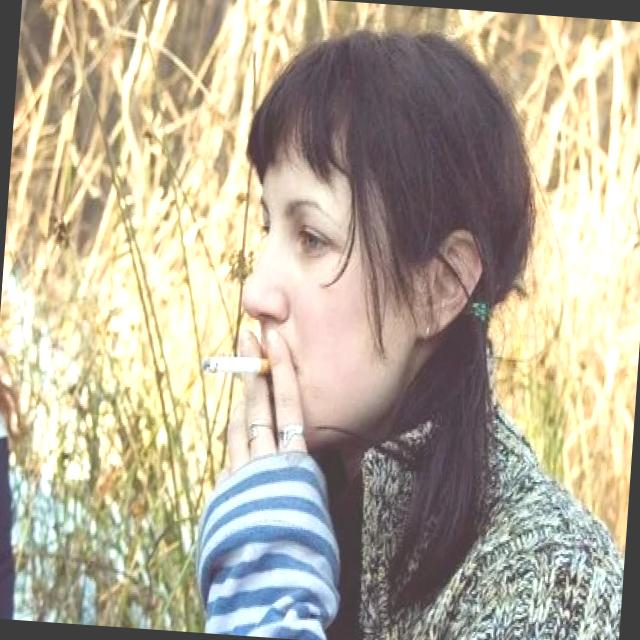cigarette: (198, 350, 275, 385)
